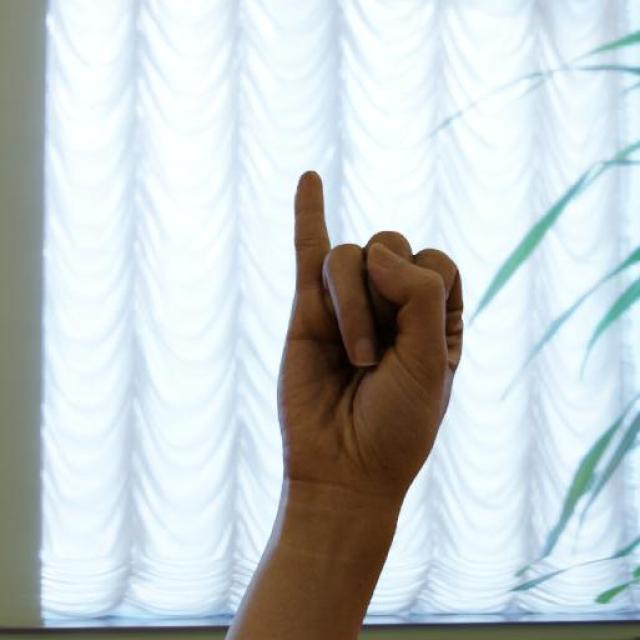I: (242, 146, 493, 560)
